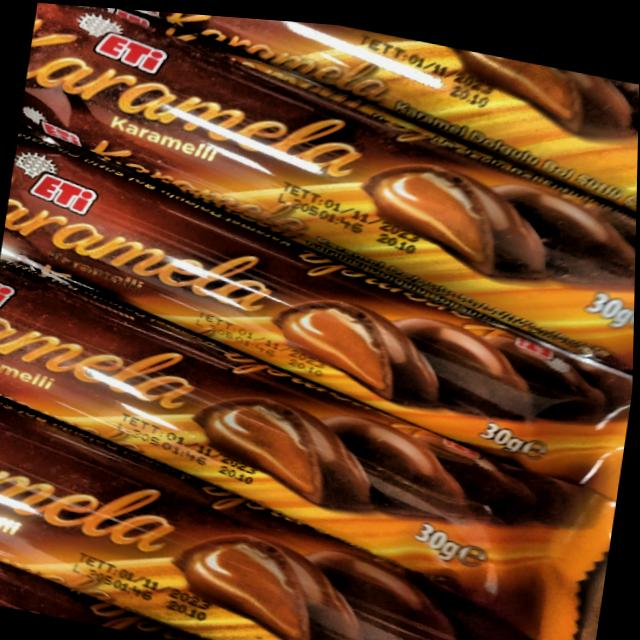Plastic: (0, 247, 619, 638), (6, 131, 634, 488), (26, 2, 637, 362), (0, 412, 566, 640)
